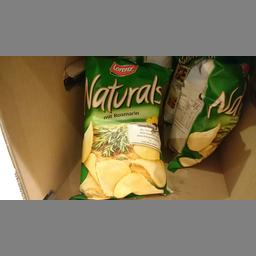chips: (78, 60, 172, 198), (170, 60, 247, 170)
